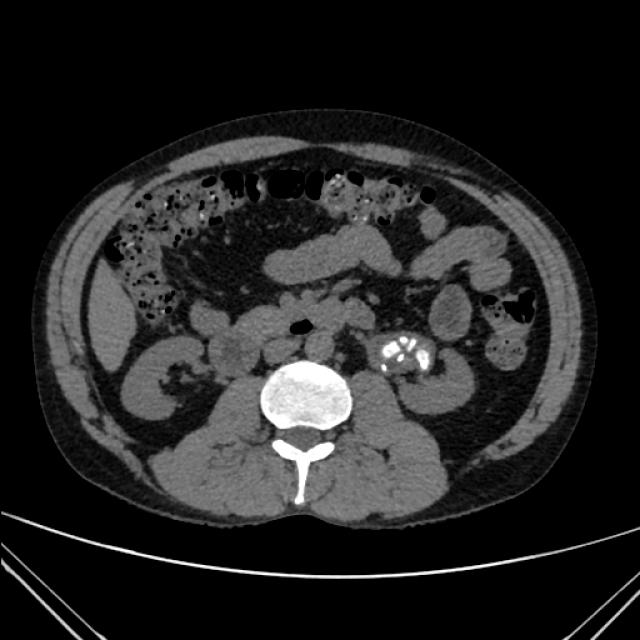kidneystone: (374, 334, 401, 358), (415, 349, 430, 369), (405, 339, 416, 351), (375, 336, 385, 349), (381, 362, 386, 372)
